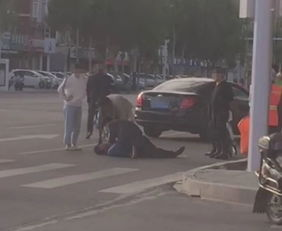fall: (92, 134, 186, 160)
